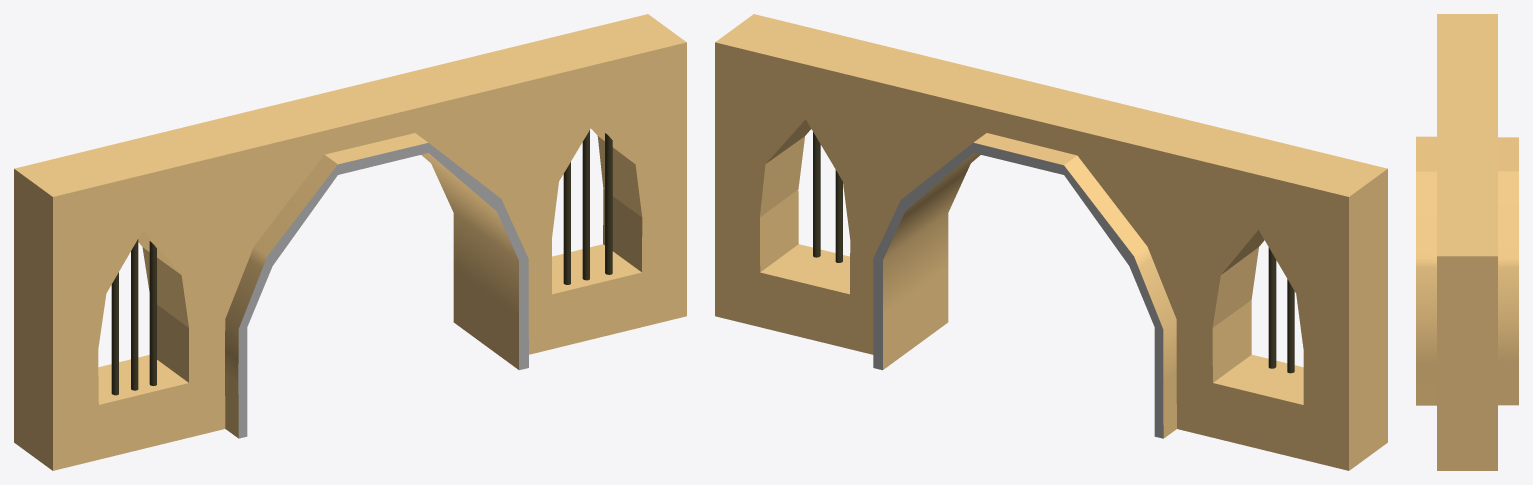
Rendered from door.glb.
3 renders of one model, left to right at view 1: azimuth 30°, elevation 25°; view 2: azimuth 150°, elevation 25°; view 3: azimuth 270°, elevation 25°, orthographic. The views are drawn at different scales.
Parts seen in each view (by area): view 1: gates:group3_pasted__pCylinder1; view 2: gates:group3_pasted__pCylinder1; view 3: gates:group3_pasted__pCylinder1.
Part boxes in pixels (left/top/right/bottom): gates:group3_pasted__pCylinder1: left=14, top=14, right=686, bottom=470; gates:group3_pasted__pCylinder1: left=715, top=14, right=1387, bottom=470; gates:group3_pasted__pCylinder1: left=1416, top=14, right=1518, bottom=470.
Size of the model in its own units: 9.44 by 3.9 by 1.69.
